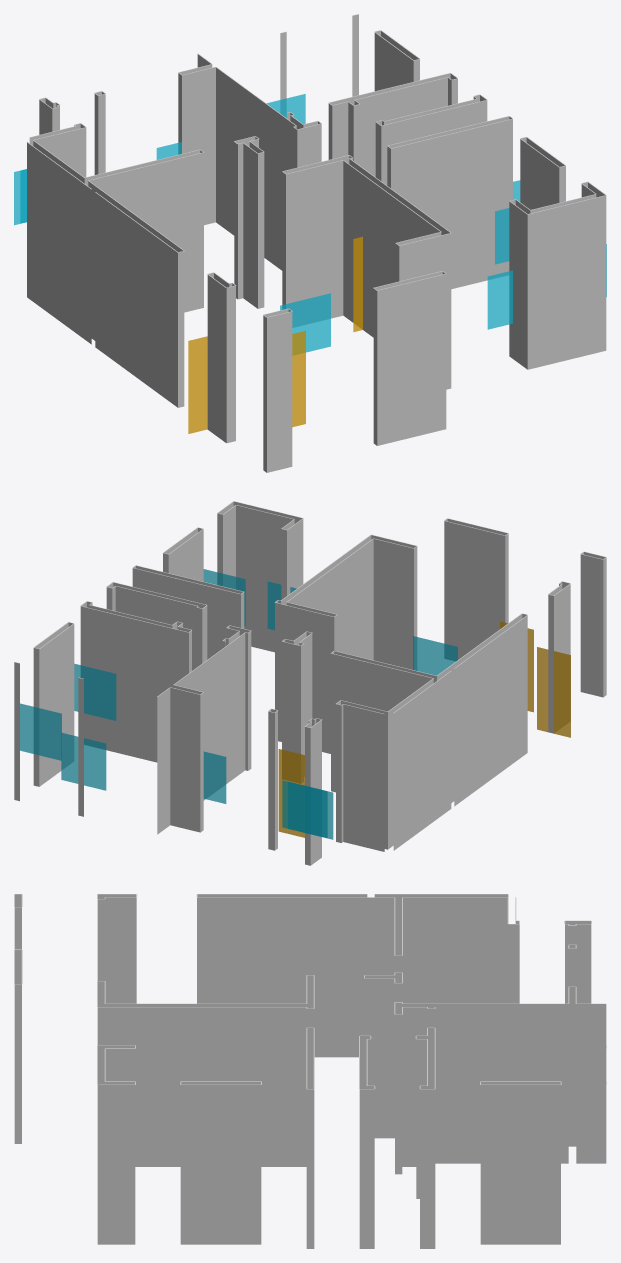
Rendered from 87dc7be8-1fd6-412f-9cff-fda0deff952e.glb.
3 renders of one model, top to bottom at view 1: azimuth 30°, elevation 25°; view 2: azimuth 150°, elevation 25°; view 3: azimuth 270°, elevation 25°, orthographic. The views are drawn at different scales.
Visible parts, largest first — view 1: walls, windows, doors, roof; view 2: walls, windows, doors, roof; view 3: walls, roof.
Part boxes in pixels (left/top/right/bottom): walls: left=27, top=14, right=606, bottom=472; windows: left=14, top=94, right=606, bottom=354; doors: left=188, top=236, right=362, bottom=433; roof: left=27, top=14, right=606, bottom=317; walls: left=14, top=501, right=606, bottom=865; windows: left=20, top=569, right=457, bottom=839; doors: left=278, top=621, right=570, bottom=837; roof: left=14, top=501, right=606, bottom=727; walls: left=14, top=894, right=606, bottom=1248; roof: left=14, top=894, right=606, bottom=1089.
Bounding box in the file's own units: 10.05 × 3.5 × 11.77.
